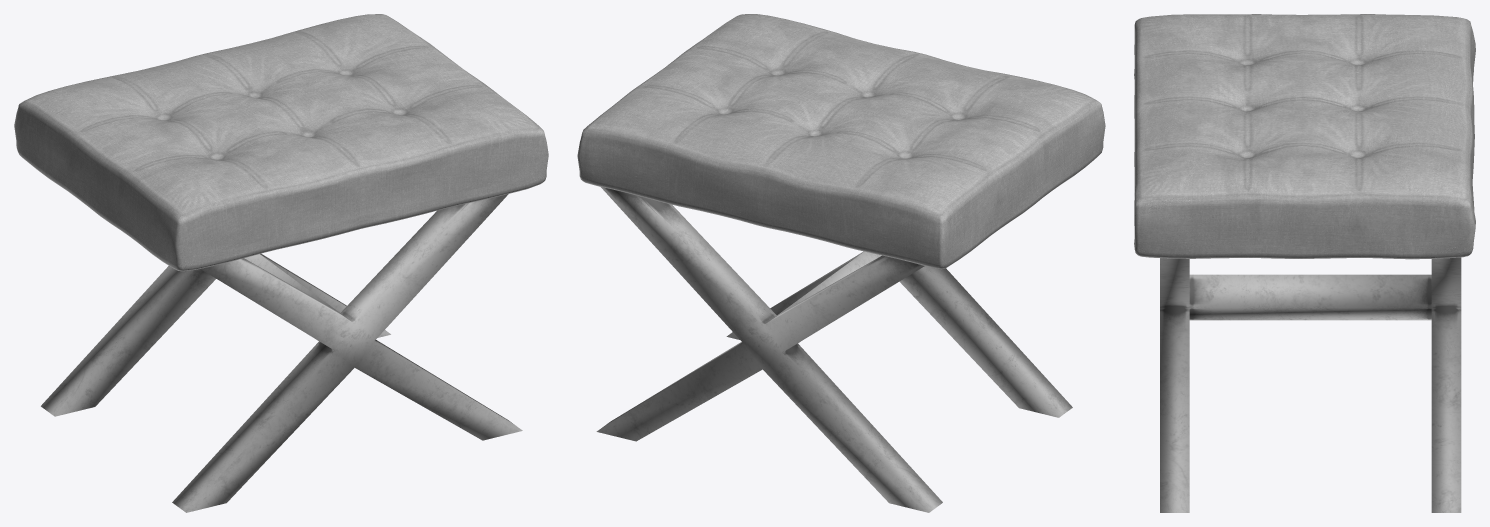
File: stool1.fbx
3 renders of one model, left to right at view 1: azimuth 30°, elevation 25°; view 2: azimuth 150°, elevation 25°; view 3: azimuth 270°, elevation 25°, orthographic. The views are drawn at different scales.
Visible parts, largest first — view 1: g; view 2: g; view 3: g.
Boxes of the visible parts, left/top/right/bottom form: g: left=14, top=14, right=548, bottom=512; g: left=577, top=14, right=1105, bottom=512; g: left=1134, top=14, right=1475, bottom=512.
Size of the model in its own units: 78.44 by 64.06 by 59.98.
Materials: 2 (2 with a texture image).
